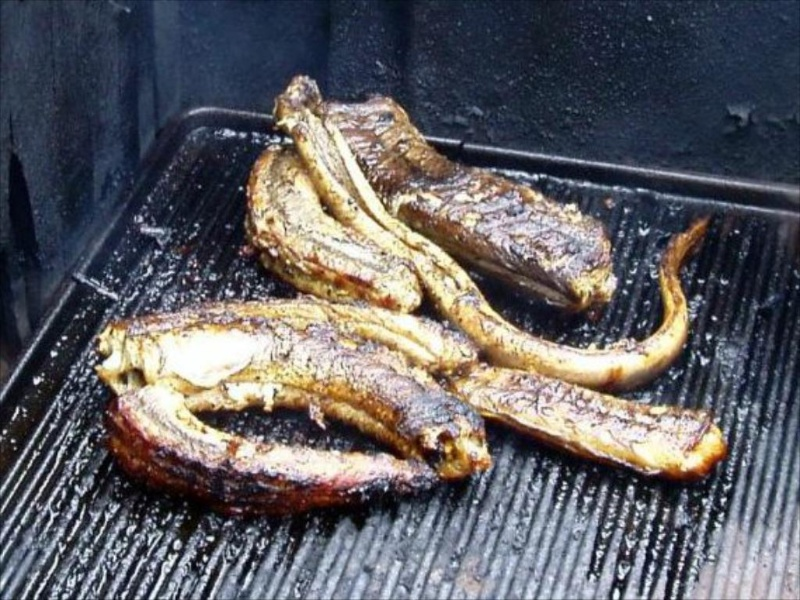banana: (272, 81, 729, 383), (101, 321, 519, 479)
